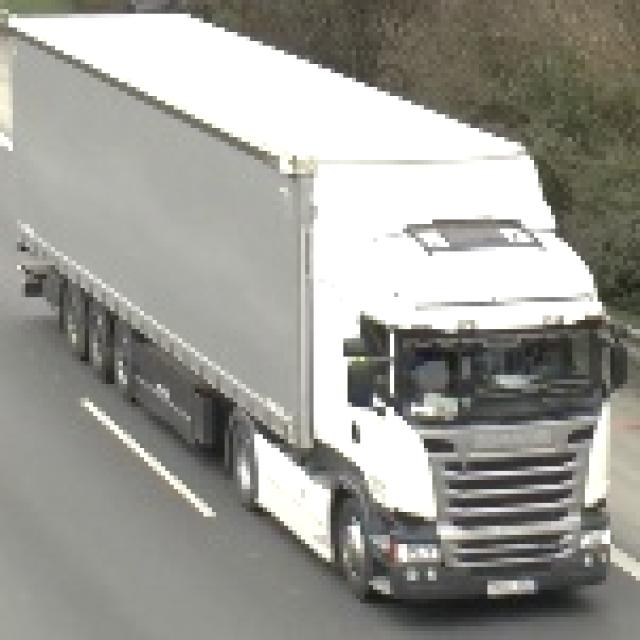TRUCK: (14, 12, 627, 608)
